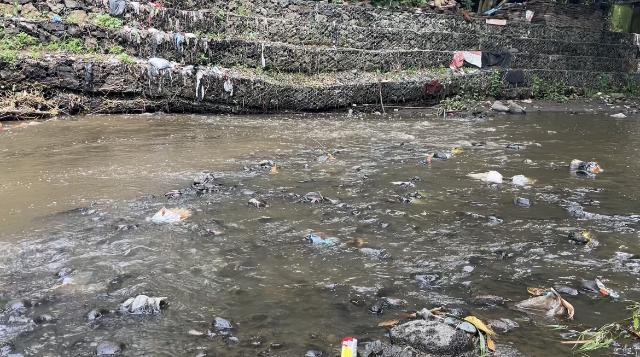Sampah Anorganik: (570, 155, 614, 184), (523, 291, 575, 315), (465, 166, 503, 184), (306, 231, 336, 247), (339, 335, 358, 357), (513, 173, 535, 192), (596, 283, 616, 300), (389, 179, 418, 188), (452, 148, 464, 154)
Sampah Organik: (428, 310, 515, 357), (578, 313, 640, 356), (378, 312, 412, 324), (402, 191, 427, 207), (153, 211, 186, 223), (267, 164, 280, 175), (162, 190, 182, 197), (351, 237, 368, 245), (326, 153, 336, 161), (426, 155, 433, 165), (583, 232, 590, 241)
